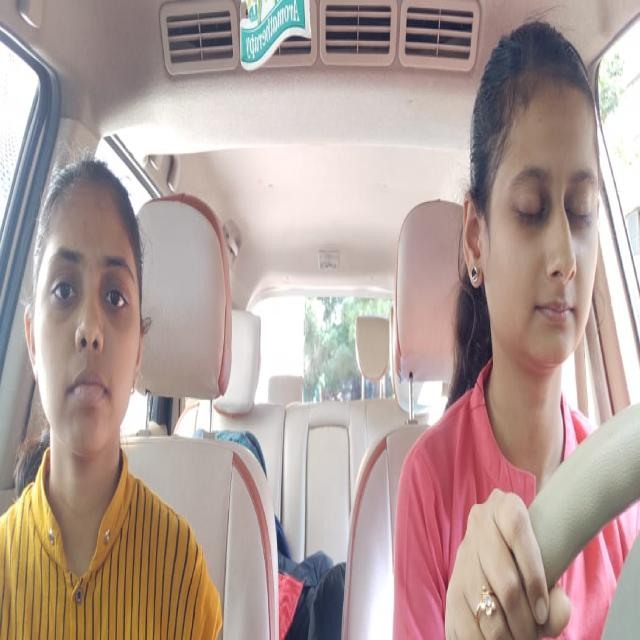drowsy: (460, 43, 604, 363)
person: (23, 172, 147, 457)
